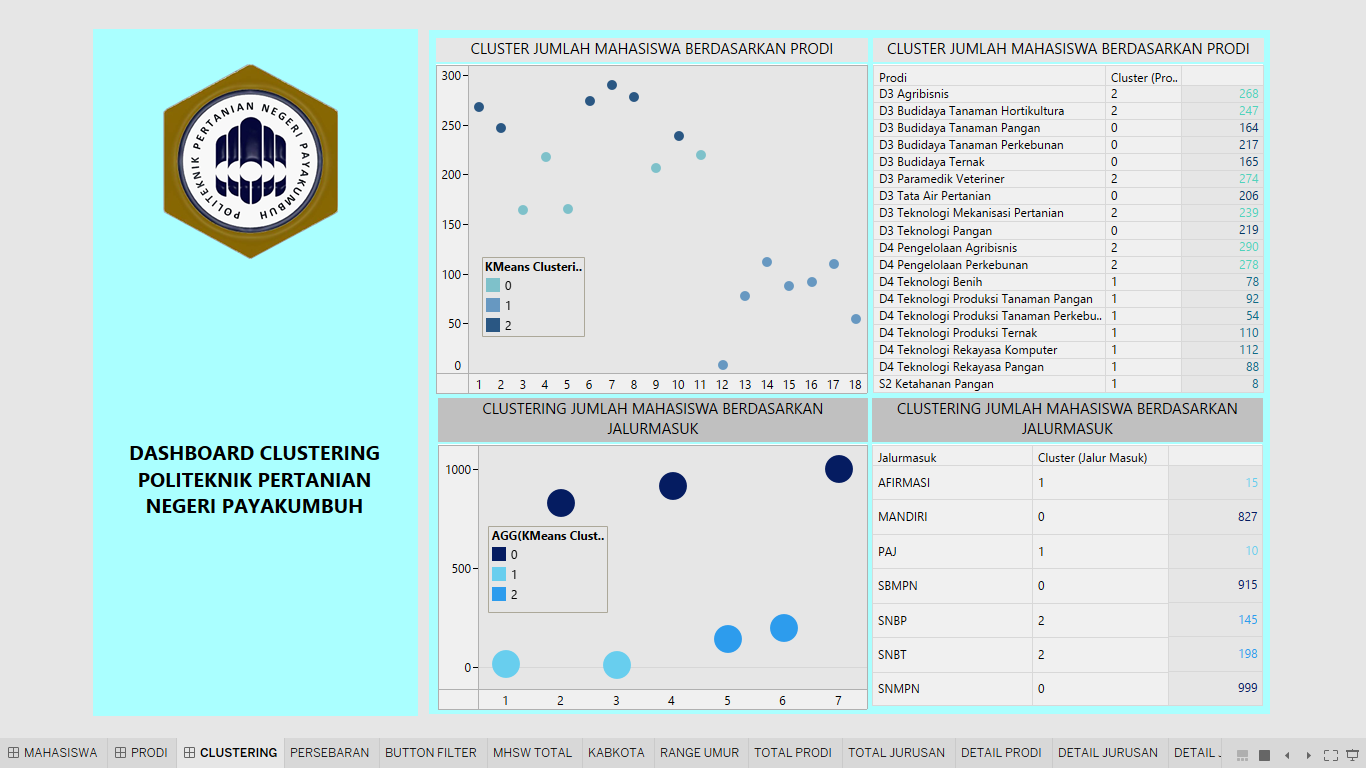

Layout of this report page (visuals, bound fields, positions):
{"tool":"tableau","page":{"name":"CLUSTERING","canvas":[1200,700],"ordinal":0},"visuals":[{"type":"blank","box":[10,10,325,687]},{"type":"blank","box":[346,11,841,684]},{"type":"worksheet","title":"CLUSTER PRODI","mark":"Circle","rows":["fact_maba_21E5B4D225D3407183BB4035FF25C909"],"cols":["sk_prodi (dim_prodi)"],"box":[351,17,434,357]},{"type":"worksheet","title":"CLUSTER PRODI (2)","mark":"Automatic","rows":["prodi"],"box":[790,19,391,355]},{"type":"legend","title":"CLUSTER PRODI","param":"[federated.152qc3819ipgjl1503bot03x0qiw].[usr:Calculation_671880811622518784:ok:","box":[637,52,142,79]},{"type":"text","box":[14,330,315,260]},{"type":"worksheet","title":"CLUSTER JALURMASUK","mark":"Circle","rows":["fact_maba_21E5B4D225D3407183BB4035FF25C909"],"cols":["sk_jalurmasuk (dim_jalurmasuk)"],"box":[355,379,430,312]},{"type":"worksheet","title":"CLUSTER JALURMASUK (2)","mark":"Automatic","rows":["jalurmasuk"],"box":[789,379,391,309]},{"type":"legend","title":"CLUSTER JALURMASUK","param":"[federated.152qc3819ipgjl1503bot03x0qiw].[usr:KMeans Clustering (Prodi) (copy)_7","box":[405,507,120,87]}]}

Visuals, with their boxes on the page's 1200x700 design canvas (x1, y1, x2, y2). These are canvas units, not pixel positions in the 1366x768 screenshot, which may show the page scaled, cropped or inside an application window:
blank: box(10, 10, 335, 697)
blank: box(346, 11, 1187, 695)
"CLUSTER PRODI" worksheet (Circle marks): box(351, 17, 785, 374)
"CLUSTER PRODI (2)" worksheet: box(790, 19, 1181, 374)
"CLUSTER PRODI" legend: box(637, 52, 779, 131)
text: box(14, 330, 329, 590)
"CLUSTER JALURMASUK" worksheet (Circle marks): box(355, 379, 785, 691)
"CLUSTER JALURMASUK (2)" worksheet: box(789, 379, 1180, 688)
"CLUSTER JALURMASUK" legend: box(405, 507, 525, 594)
